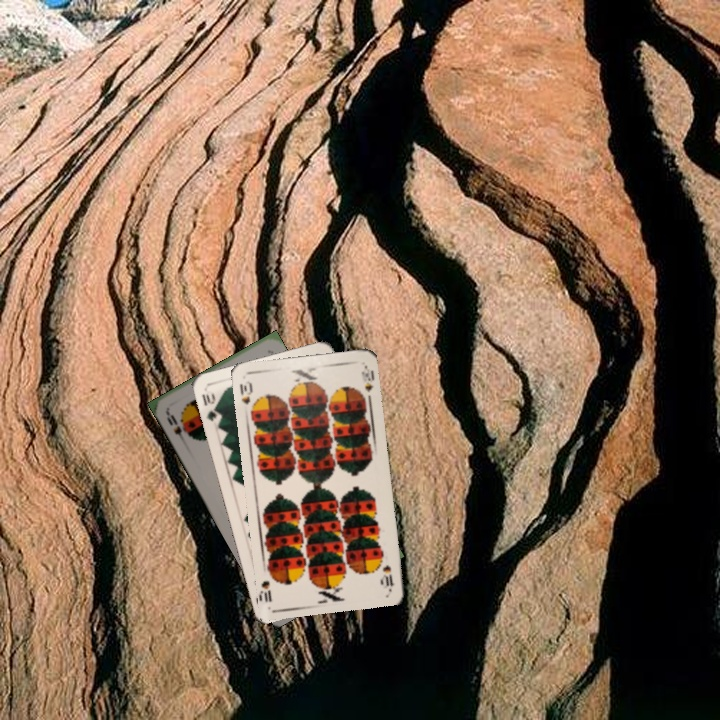G10: (198, 389, 222, 424)
S10: (236, 377, 257, 417), (378, 561, 396, 591)
SO: (162, 408, 188, 446)
